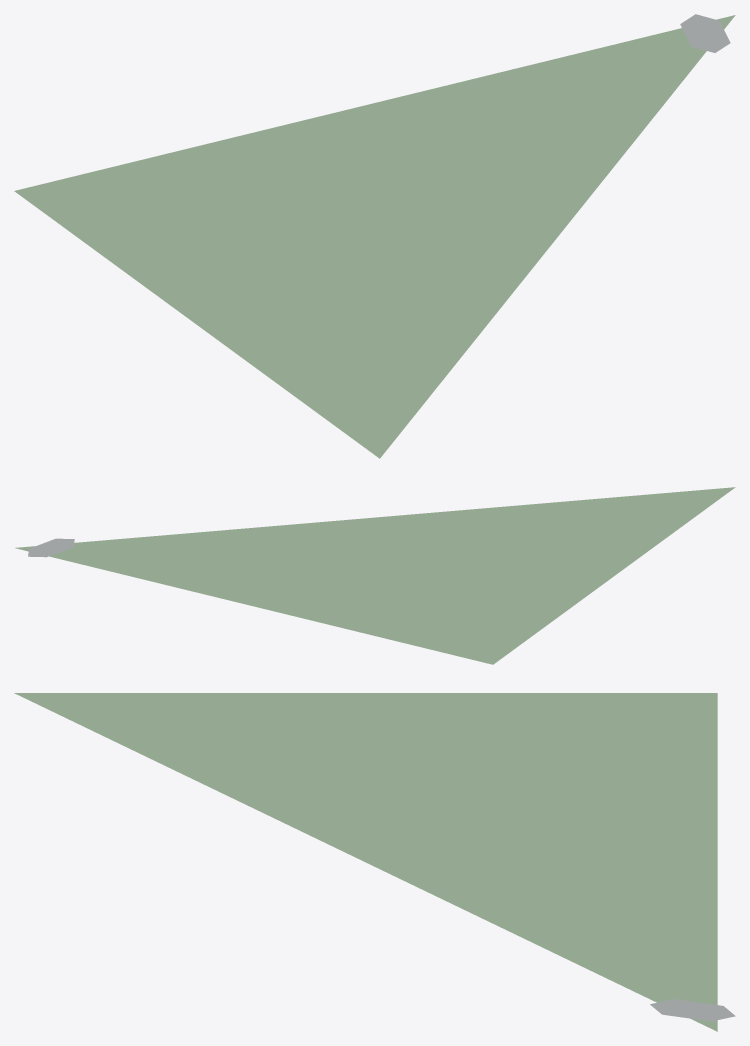
The model's file is -9_12-known-fine.glb.
3 views of the same model, one above another, from view 1: azimuth 30°, elevation 25°; view 2: azimuth 150°, elevation 25°; view 3: azimuth 270°, elevation 25° (orthographic). The views are drawn at different scales.
Size of the model in its own units: 61.95 by 0.1 by 55.8.
